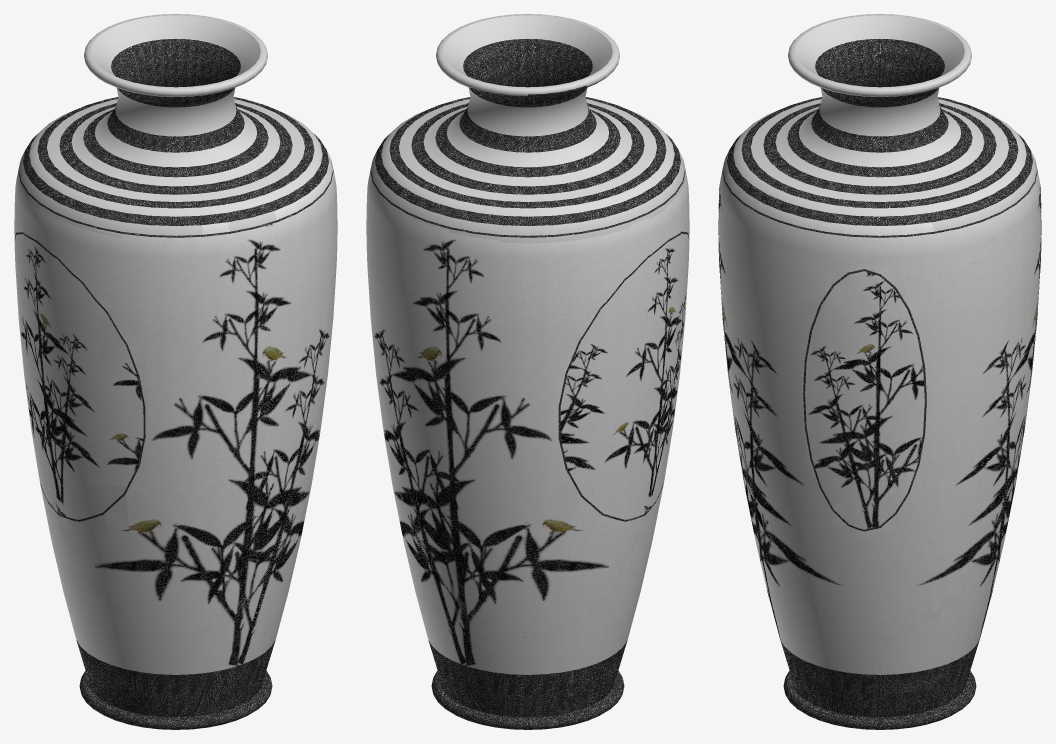
Rendered from jarronchino.dae.
3 renders of one model, left to right at view 1: azimuth 30°, elevation 25°; view 2: azimuth 150°, elevation 25°; view 3: azimuth 270°, elevation 25°, orthographic.
Visible parts, largest first — view 1: SketchUp (×22); view 2: SketchUp (×22); view 3: SketchUp (×22).
Part boxes in pixels (x1,y1,x2,y2): SketchUp (×22): (14,14,337,729); SketchUp (×22): (366,14,689,729); SketchUp (×22): (718,14,1041,729).
Bounding box in the file's own units: 37.81 × 37.81 × 82.53.
